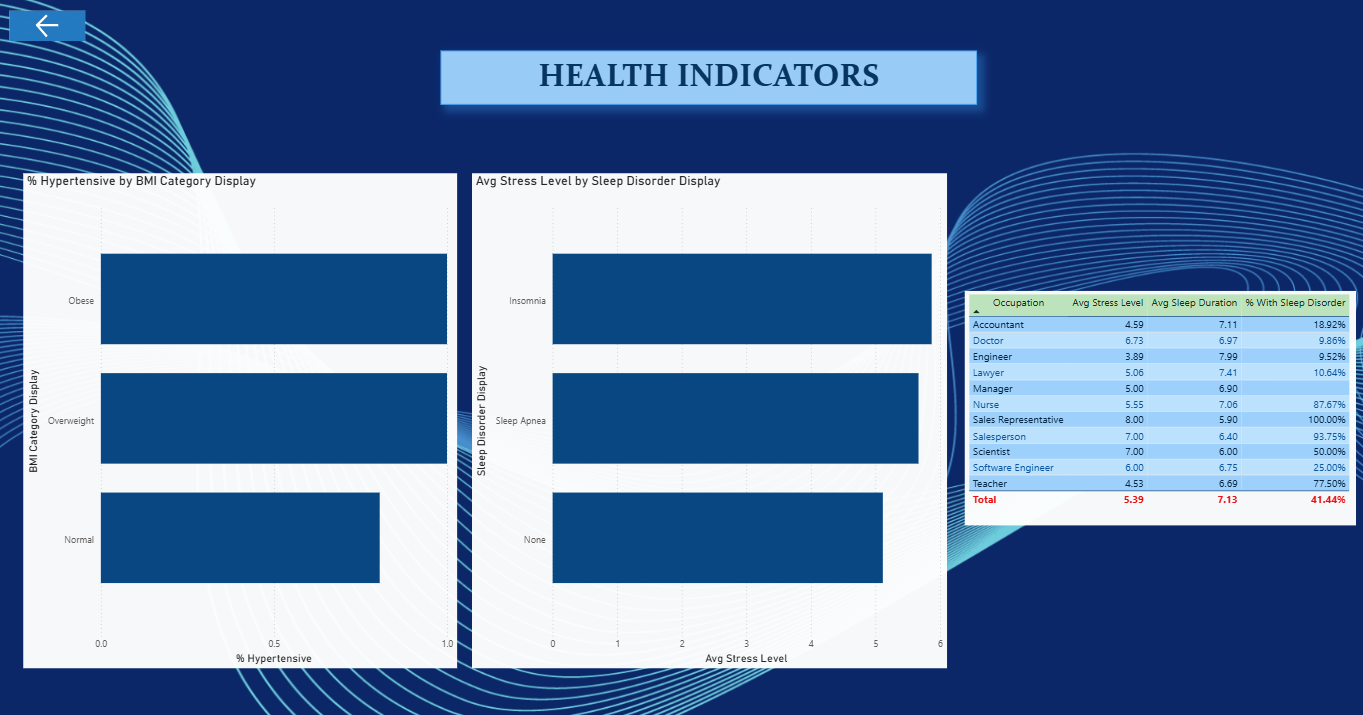

What the dashboard file says about the page in this screenshot:
{"tool":"powerbi","page":{"name":"Page 3","canvas":[1685,720],"ordinal":2},"visuals":[{"type":"textbox","box":[560.2,64.3,561.8,55.1],"z":0},{"type":"barChart","fields":{"Category":["Sleep_health_and_lifestyle_dataset.BMI Category Display"],"Y":["Sleep_health_and_lifestyle_dataset.% Hypertensive"]},"box":[35.2,238.8,506.7,480.6],"z":1},{"type":"clusteredBarChart","fields":{"Category":["Sleep_health_and_lifestyle_dataset.Sleep Disorder Display"],"Y":["Sleep_health_and_lifestyle_dataset.Avg Stress Level"]},"box":[560.2,238.8,561.8,480.6],"z":2},{"type":"tableEx","fields":{"Values":["Sleep_health_and_lifestyle_dataset.Occupation","Sleep_health_and_lifestyle_dataset.Avg Stress Level","Sleep_health_and_lifestyle_dataset.Avg Sleep Duration","Sleep_health_and_lifestyle_dataset.% With Sleep Disorder"]},"box":[1143.4,324.5,514.3,309.2],"z":3},{"type":"actionButton","box":[16.8,24.5,100,40],"z":4}]}

Visuals, with their boxes on the page's 1685x720 design canvas (x1, y1, x2, y2). These are canvas units, not pixel positions in the 1363x715 screenshot, which may show the page scaled, cropped or inside an application window:
textbox: <box>560,64,1122,119</box>
barChart - Sleep_health_and_lifestyle_dataset.BMI Category Display x Sleep_health_and_lifestyle_dataset.% Hypertensive: <box>35,239,542,719</box>
clusteredBarChart - Sleep_health_and_lifestyle_dataset.Sleep Disorder Display x Sleep_health_and_lifestyle_dataset.Avg Stress Level: <box>560,239,1122,719</box>
tableEx - Sleep_health_and_lifestyle_dataset.Occupation x Sleep_health_and_lifestyle_dataset.Avg Stress Level: <box>1143,324,1658,634</box>
actionButton: <box>17,24,117,64</box>
